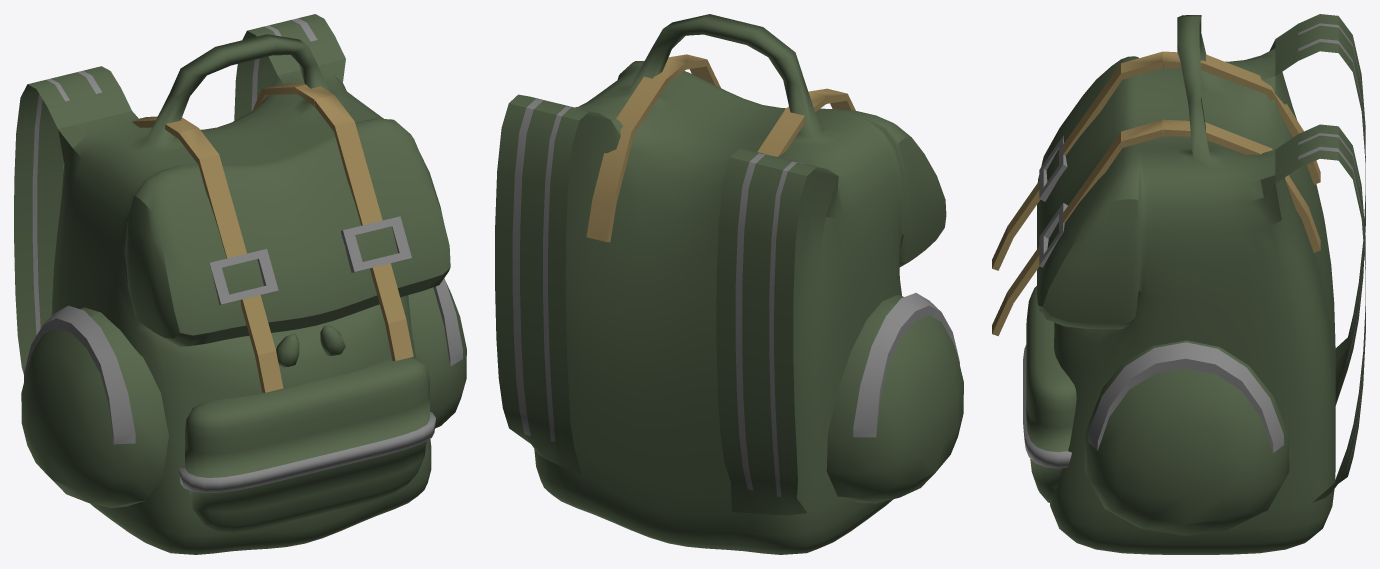
Rendered from T2_Bag.fbx.
3 renders of one model, left to right at view 1: azimuth 30°, elevation 25°; view 2: azimuth 150°, elevation 25°; view 3: azimuth 270°, elevation 25°, orthographic. The views are drawn at different scales.
Parts seen in each view (by area): view 1: Bag; view 2: Bag; view 3: Bag.
Boxes of the visible parts, x1,y1,x2,y2 form: Bag: (14,14,466,554); Bag: (495,14,963,554); Bag: (992,14,1365,554).
Bounding box in the file's own units: 1.08 × 0.847 × 1.2.
